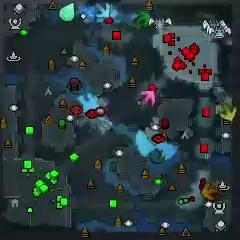p2: (60, 2, 76, 22)
x1: (139, 90, 156, 106)
x2: (219, 103, 237, 121)
x3: (93, 3, 111, 20)
x4: (132, 9, 152, 27)
x5: (202, 184, 219, 200)
